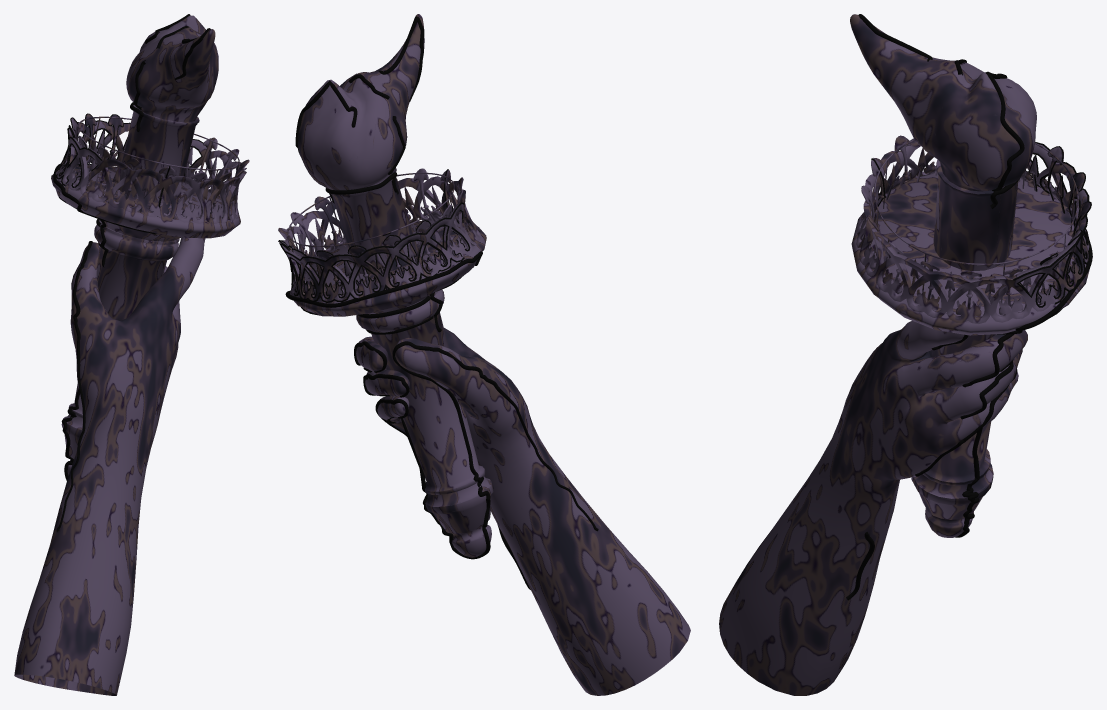
File: Hand_of_Liberty.fbx
3 views of the same model, side by side, from view 1: azimuth 30°, elevation 25°; view 2: azimuth 150°, elevation 25°; view 3: azimuth 270°, elevation 25° (orthographic). The views are drawn at different scales.
Parts seen in each view (by area): view 1: Hand of liberty; view 2: Hand of liberty; view 3: Hand of liberty.
Boxes of the visible parts, x1,y1,x2,y2 form: Hand of liberty: (14, 14, 249, 695); Hand of liberty: (278, 14, 690, 695); Hand of liberty: (719, 14, 1092, 695).
Bounding box in the file's own units: 270 × 539 × 239.
2 materials, 1 textured.
